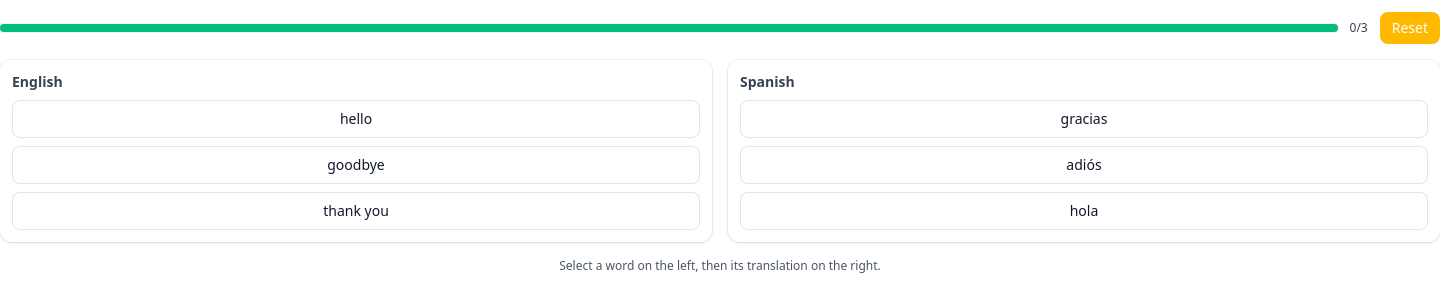
Test: WordMatcher › matches words correctly when correct pair is selected
Click on "hello" in the left column
Click the button with aria-label "select hello" at coordinates (356, 119), box [12, 100, 700, 138]
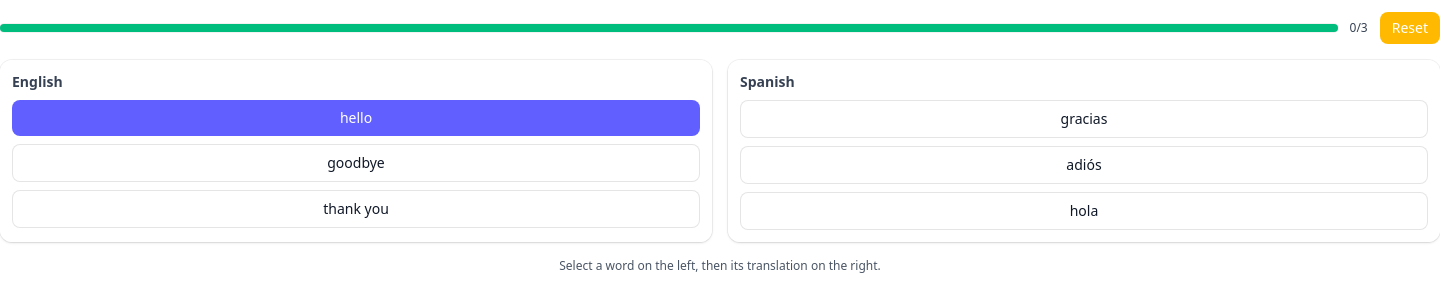
Click on "hola" in the right column (correct match)
Click the button with aria-label "choose hola" at coordinates (1084, 211), box [740, 192, 1428, 230]
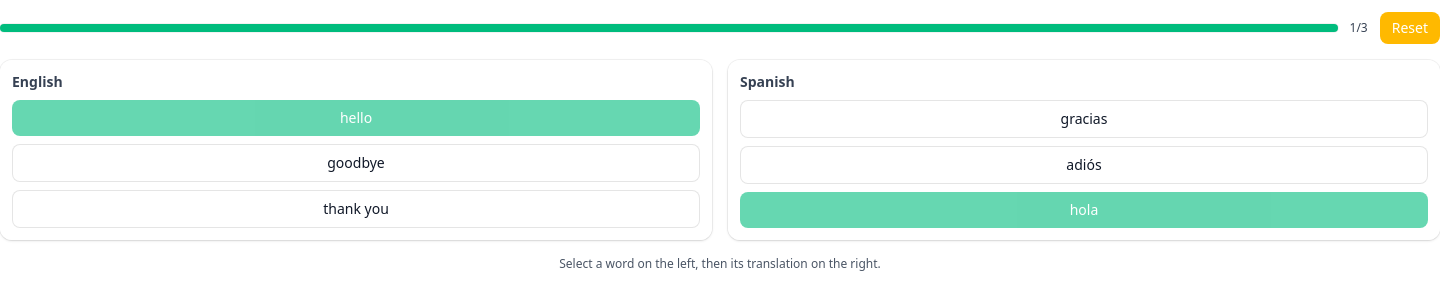
Expected: the text "1/3" is shown, [1350, 20, 1368, 36]
